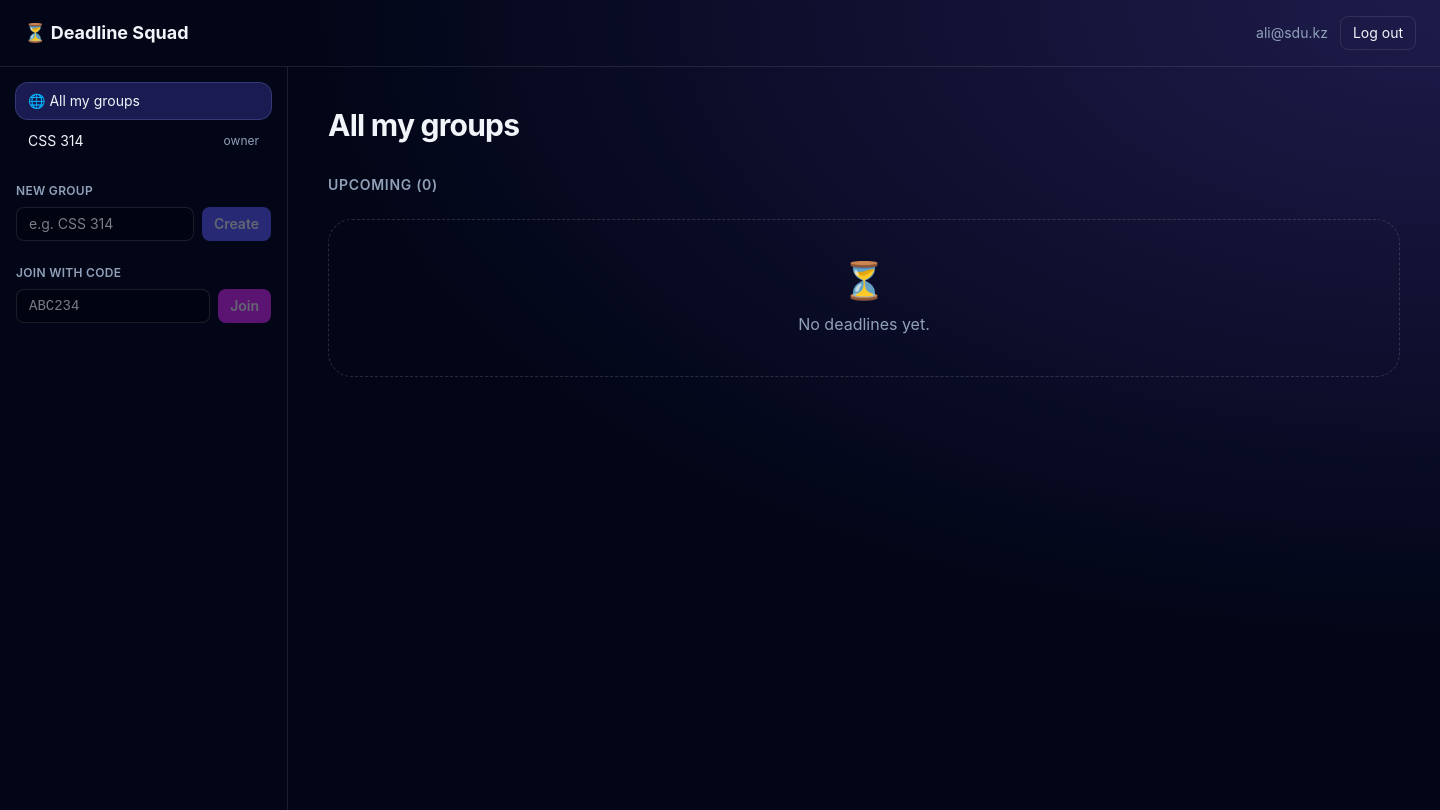
Test case: a wrong invite code shows an error
Type "zzzzzz" into the field labelled "Join with code" at (113, 306), box [16,289,210,323]
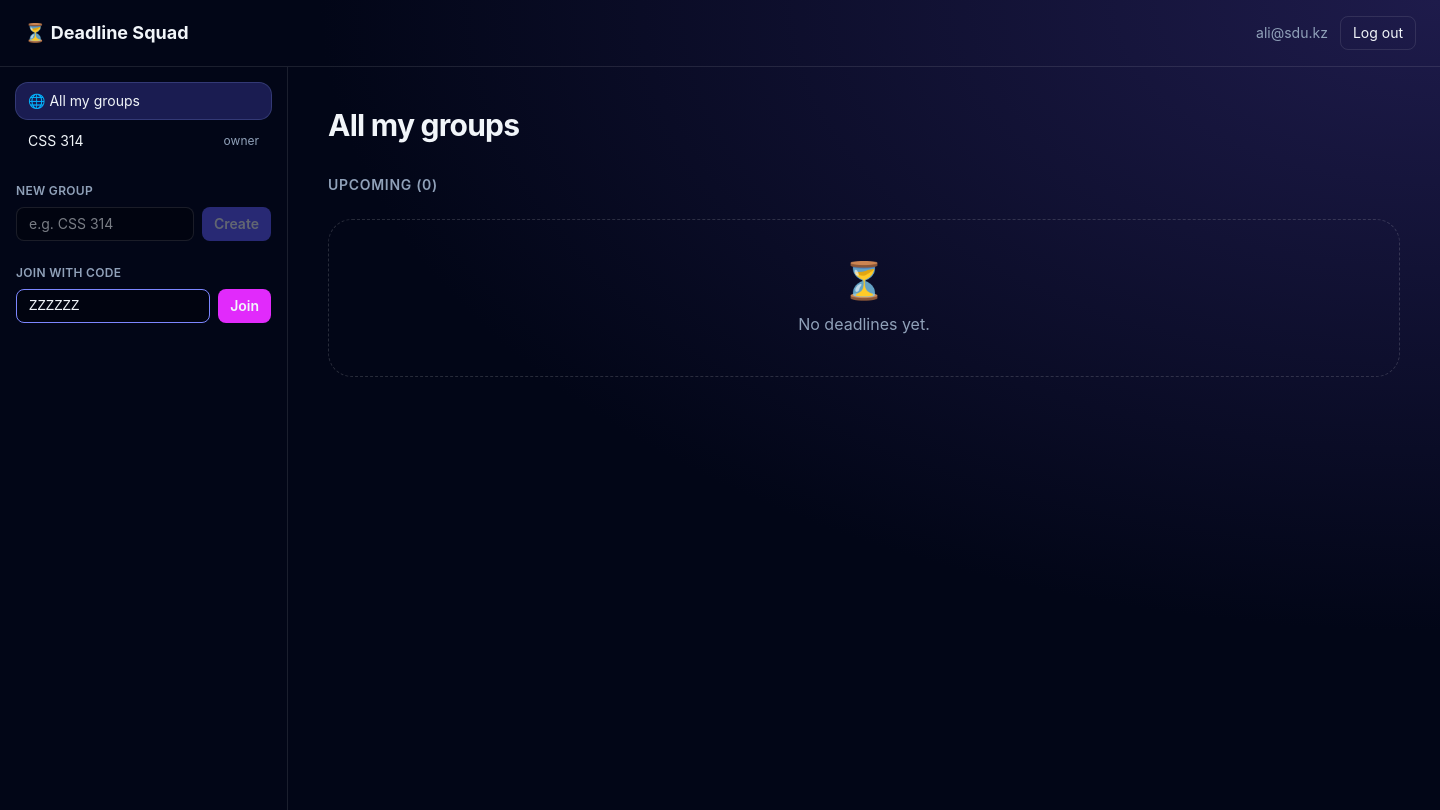
Click the button "Join" at (245, 306), box [218,289,271,323]
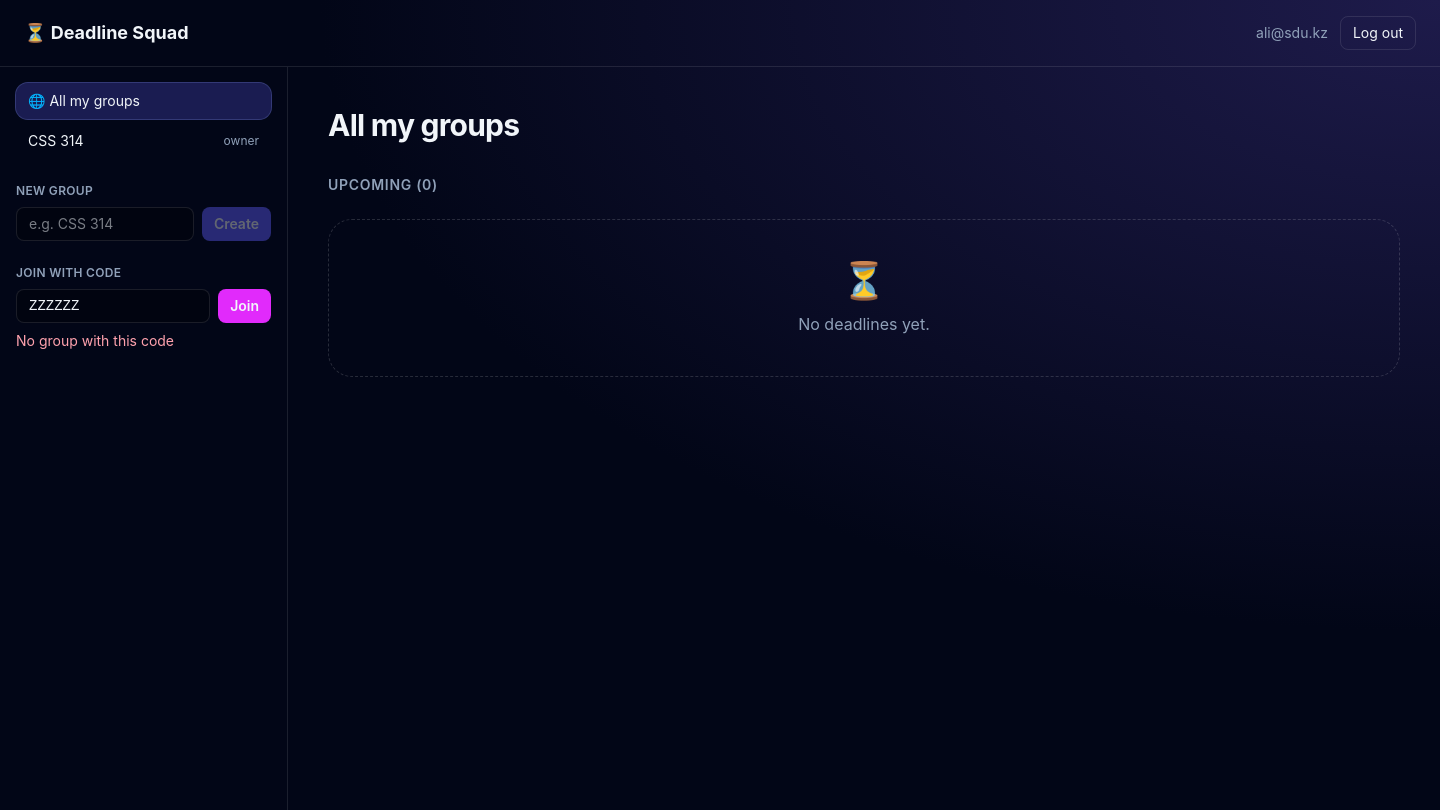
Check: the message reads "No group with this code", box [16,332,174,349]
